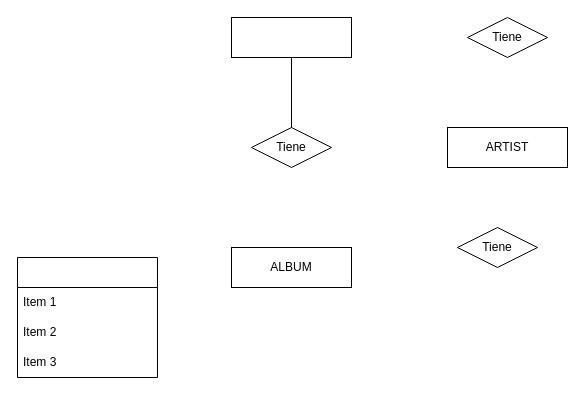
Image size: 585x395. Some labels were removed from this diagram. Here are the shapes that lost their labels. From the top down, the box of each, then its label:
(230, 16, 352, 58): SONG
(16, 256, 158, 378): List
